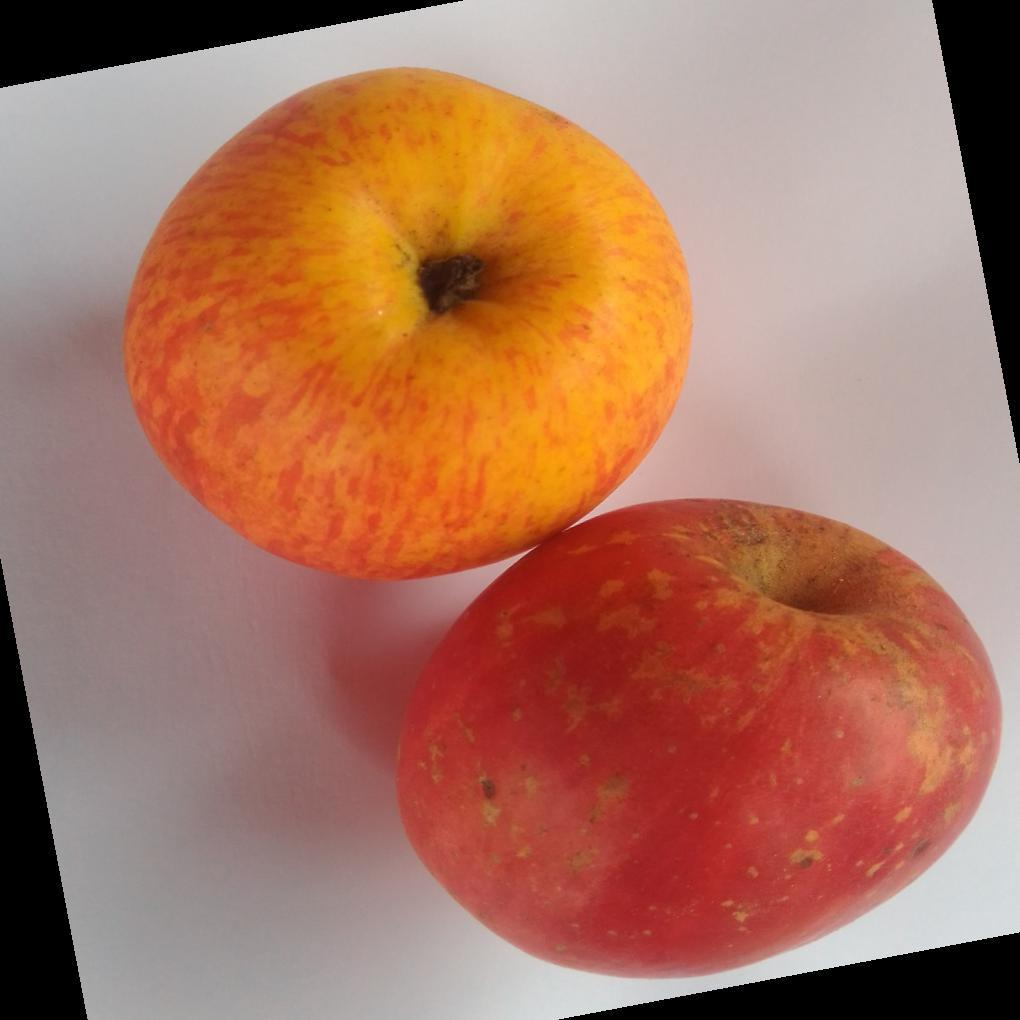FreshGuava: (121, 68, 1002, 985)
